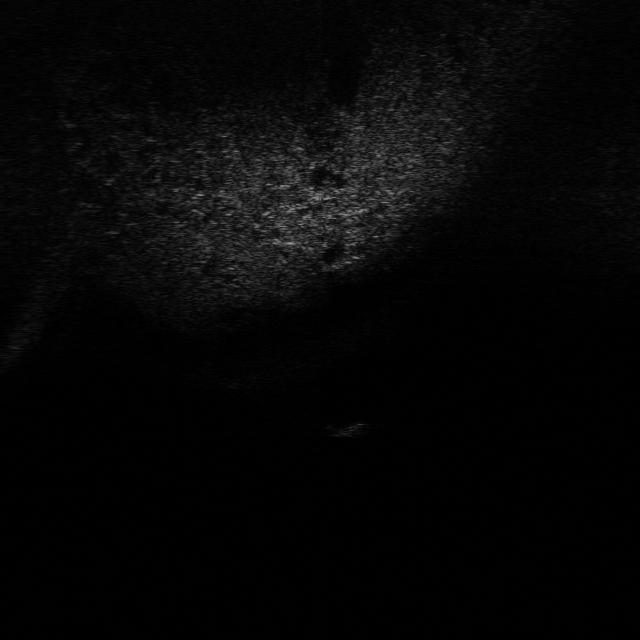cube: (321, 414, 377, 440)
